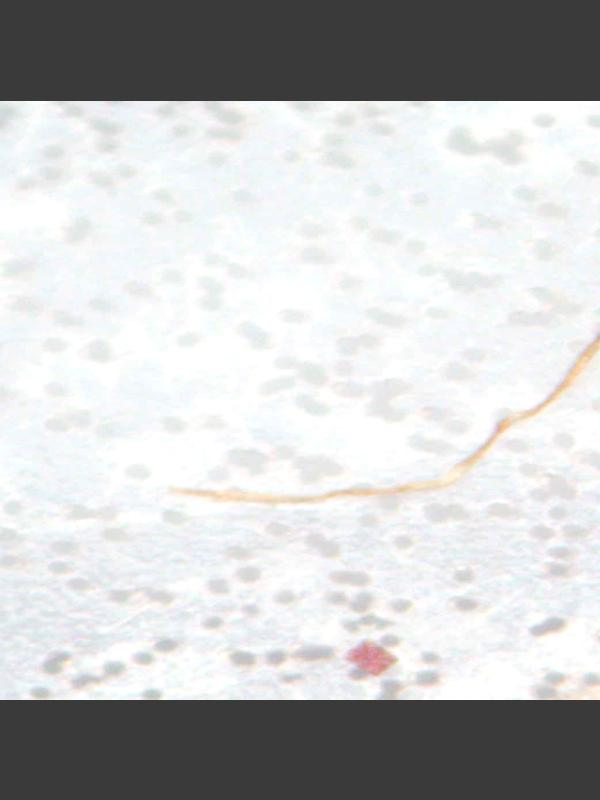microplastic: (171, 313, 600, 507)
